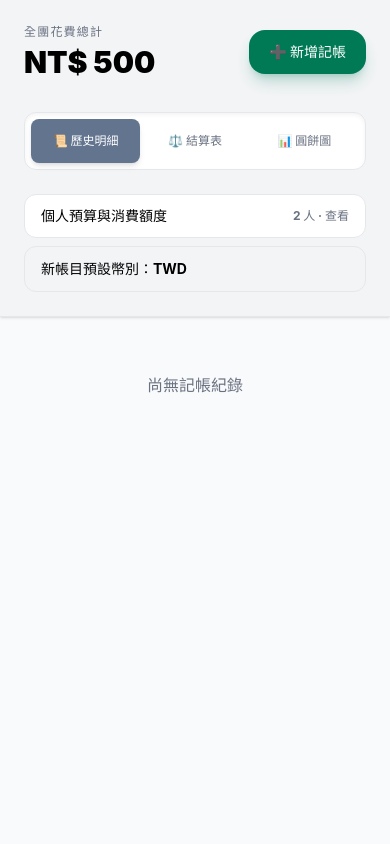
Test: ExpenseSection › 顯示總支出與個人分攤
expect the heading with test id "expense-total" reads "NT$ 500": met, box [24,44,155,80]
Click the button with test id "budget-toggle".
click(104, 216)  # box [24,194,366,238]
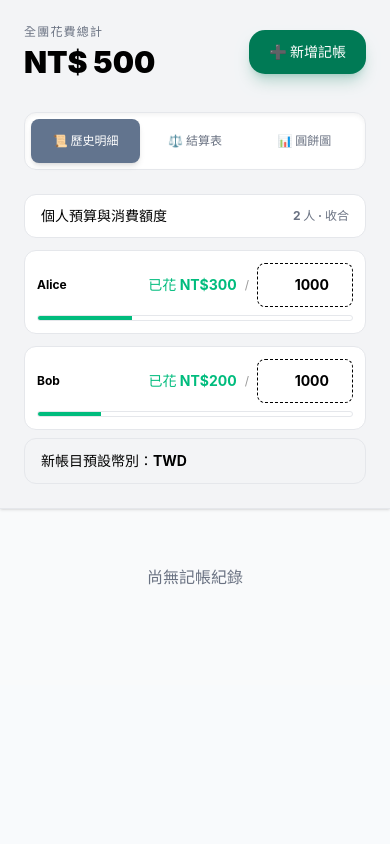
expect the text "已花 NT$300" is shown: met, box [148,275,237,295]
expect the text "已花 NT$200" is shown: met, box [148,371,237,391]
